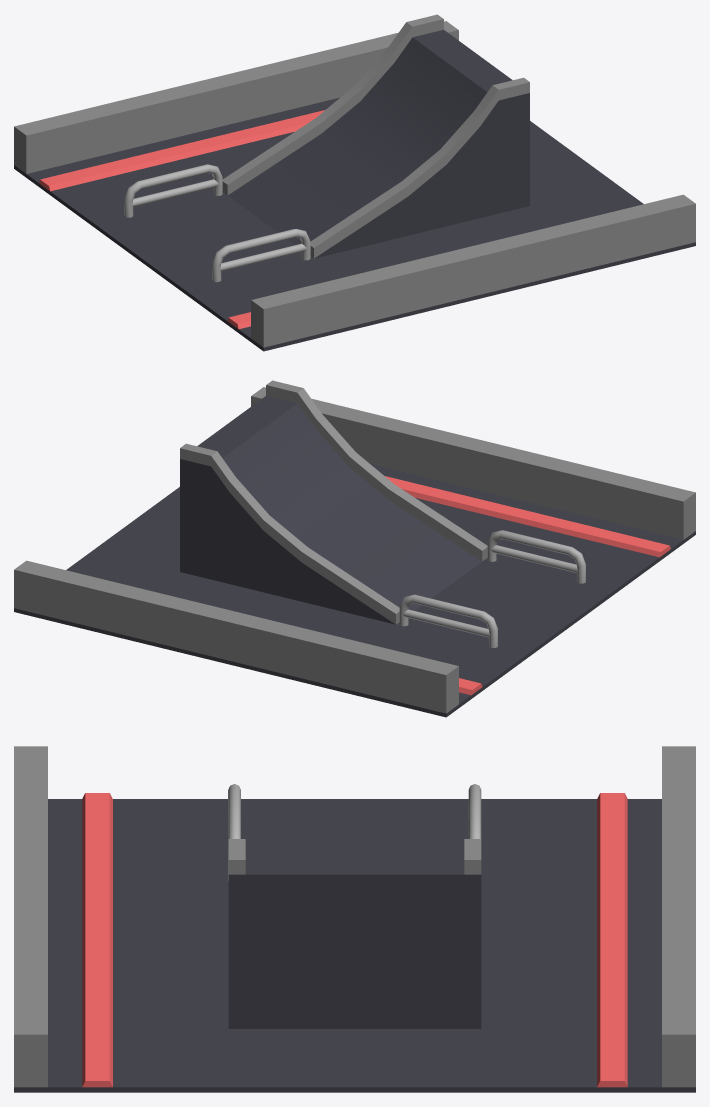
Rendered from kartkids_base_trk_490_jmp_02_mid_50pct_railed_1x1.glb.
3 renders of one model, top to bottom at view 1: azimuth 30°, elevation 25°; view 2: azimuth 150°, elevation 25°; view 3: azimuth 270°, elevation 25°, orthographic. The views are drawn at different scales.
Visible parts, largest first — view 1: 1.001, kartkids_base_trk_010_rd_straight_1x1.007, kartkids_base_trk_020_trn_90_l_1x1.003; view 2: 1.001, kartkids_base_trk_010_rd_straight_1x1.007, kartkids_base_trk_020_trn_90_l_1x1.003; view 3: kartkids_base_trk_010_rd_straight_1x1.007, 1.001, kartkids_base_trk_020_trn_90_l_1x1.003.
Part boxes in pixels (x1,y1,x2,y2): 1.001: (124, 14, 529, 282); kartkids_base_trk_010_rd_straight_1x1.007: (14, 97, 695, 351); kartkids_base_trk_020_trn_90_l_1x1.003: (14, 21, 695, 347); 1.001: (180, 380, 585, 647); kartkids_base_trk_010_rd_straight_1x1.007: (14, 463, 695, 717); kartkids_base_trk_020_trn_90_l_1x1.003: (14, 387, 695, 713); kartkids_base_trk_010_rd_straight_1x1.007: (14, 793, 695, 1092); 1.001: (228, 784, 481, 1028); kartkids_base_trk_020_trn_90_l_1x1.003: (14, 746, 695, 1087).
Bounding box in the file's own units: 10 × 2.82 × 10.
